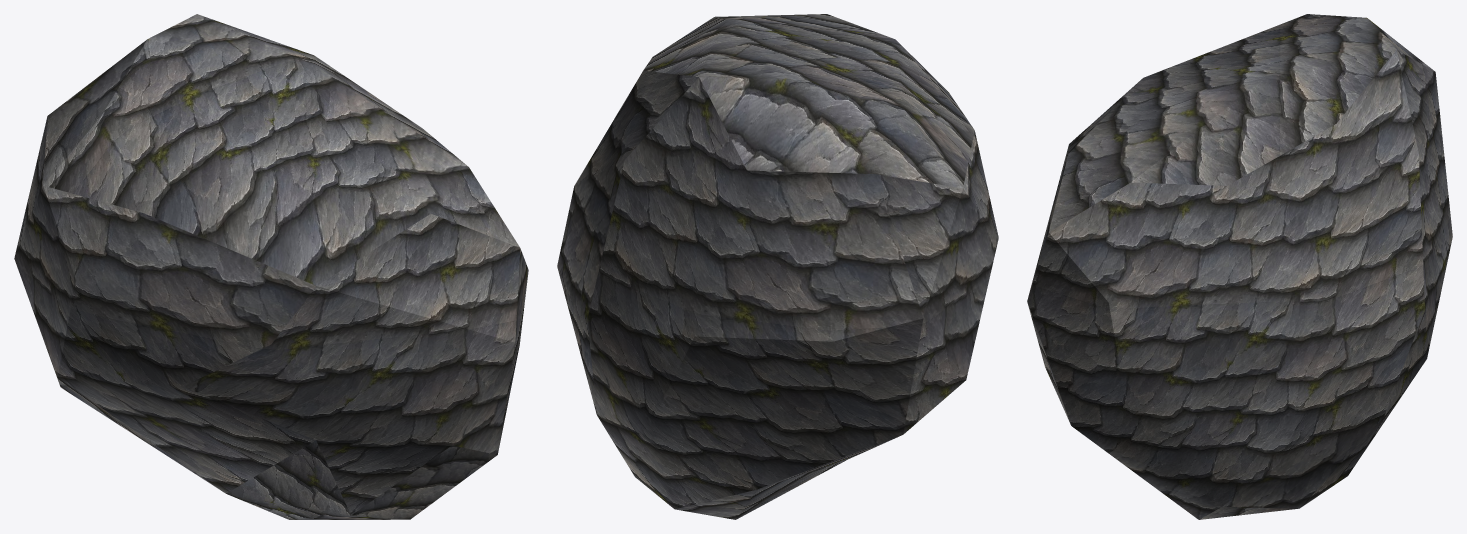
Rendered from grock_c.glb.
The picture shows the model from 3 angles, left to right: view 1: azimuth 30°, elevation 25°; view 2: azimuth 150°, elevation 25°; view 3: azimuth 270°, elevation 25°; orthographic projection. The views are drawn at different scales.
Parts seen in each view (by area): view 1: model; view 2: model; view 3: model.
Part boxes in pixels (x1,y1,x2,y2): model: [14, 14, 528, 519]; model: [557, 14, 998, 519]; model: [1027, 14, 1452, 519].
Size of the model in its own units: 0.8092 by 0.9626 by 0.8515.
1 material, 1 textured.
